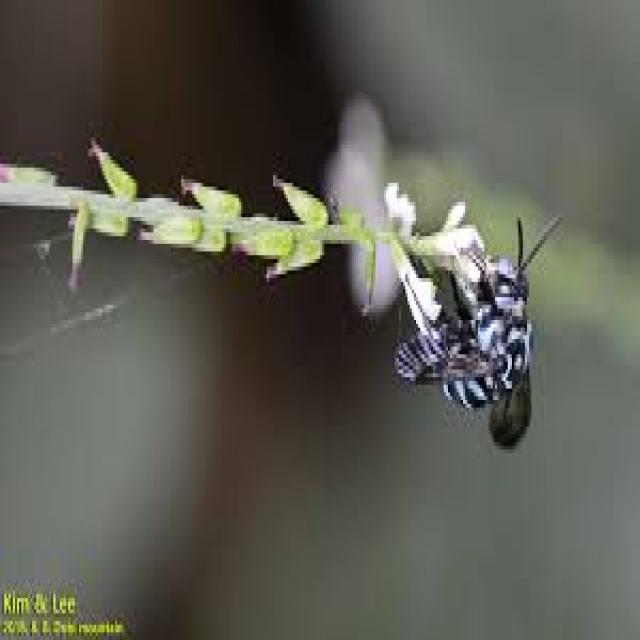Thyreus: (393, 220, 551, 466)
